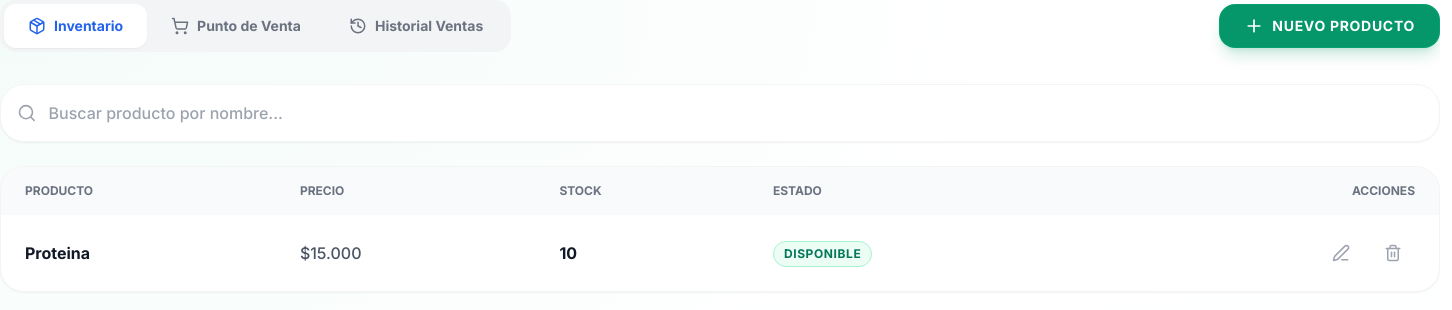
Test: ProductsPage - montos en formato argentino (spec 0009) › AC-0009-10: la fila del historial de ventas muestra $25.000
This screenshot has width=1452, height=310.
Click the button "Historial Ventas": [416, 26] box 325,4 -> 507,48
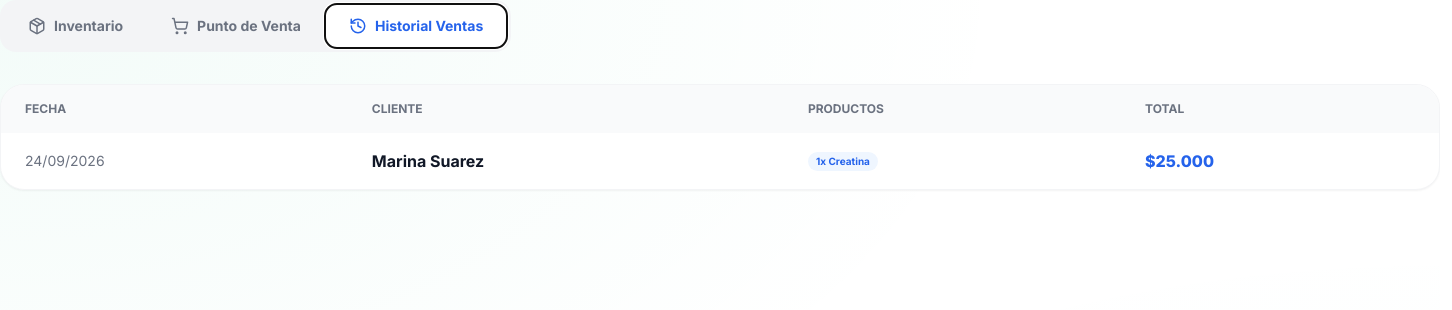
Expected: the text "Marina Suarez" shows "$25.000", 1145,151 -> 1214,171
